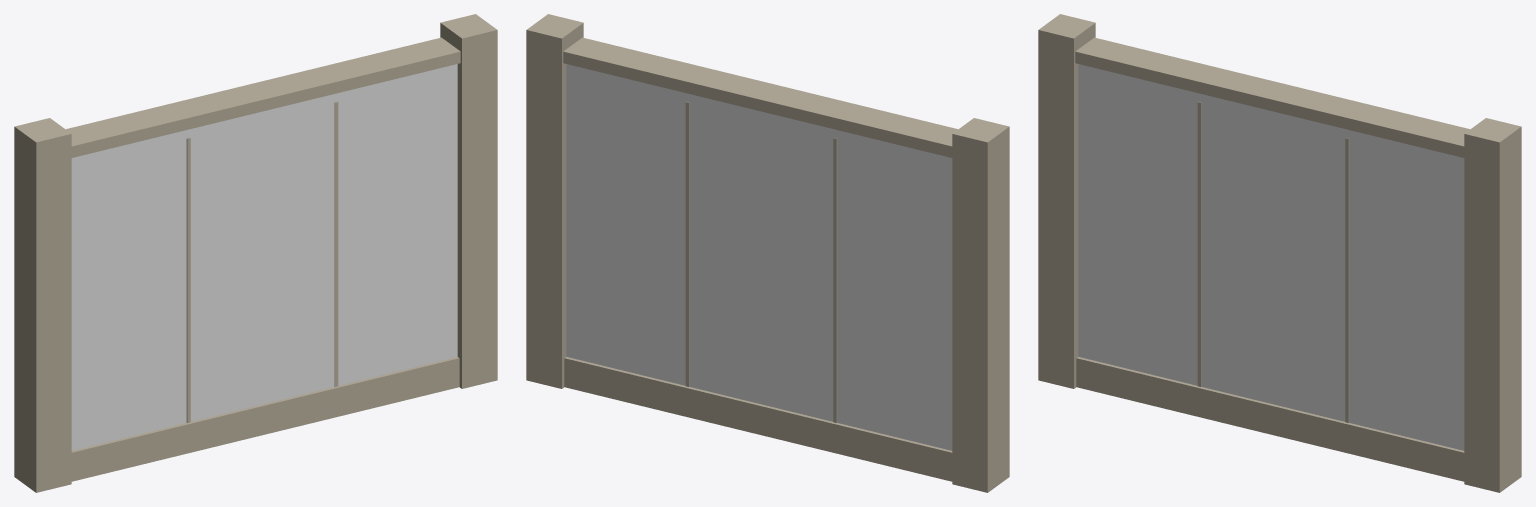
Rendered from hood_wall_concrete.glb.
3 renders of one model, left to right at view 1: azimuth 30°, elevation 25°; view 2: azimuth 150°, elevation 25°; view 3: azimuth 330°, elevation 25°, orthographic.
Parts seen in each view (by area): view 1: panel, cap.003; view 2: panel, cap.003; view 3: panel, cap.003.
Boxes of the visible parts, x1,y1,x2,y2 form: panel: [71, 64, 457, 450]; cap.003: [14, 14, 497, 492]; panel: [566, 64, 952, 450]; cap.003: [526, 14, 1009, 492]; panel: [1078, 64, 1464, 450]; cap.003: [1038, 14, 1521, 492].
Size of the model in its own units: 4.16 by 3.02 by 0.34.
